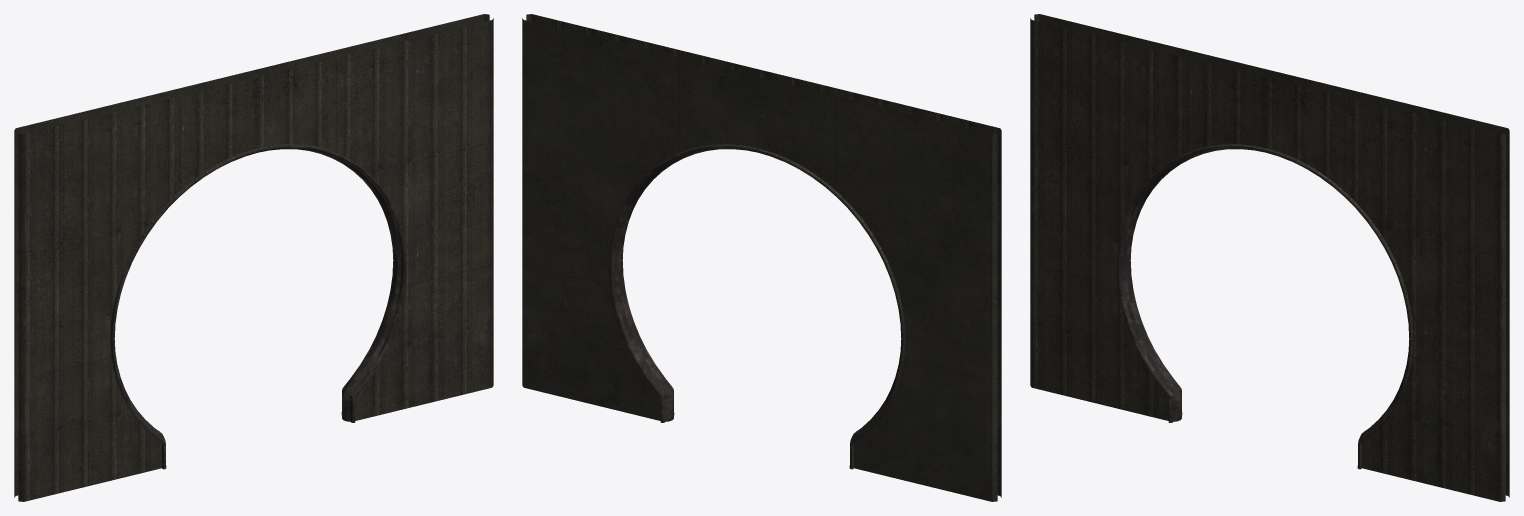
The model's file is wall_1_tunnel_hole.obj.
The picture shows the model from 3 angles, left to right: view 1: azimuth 30°, elevation 25°; view 2: azimuth 150°, elevation 25°; view 3: azimuth 330°, elevation 25°; orthographic projection.
Visible parts, largest first — view 1: wall_1_tunnel_hole; view 2: wall_1_tunnel_hole; view 3: wall_1_tunnel_hole.
Part boxes in pixels (x1,y1,x2,y2): wall_1_tunnel_hole: (14, 14, 493, 501); wall_1_tunnel_hole: (522, 14, 1001, 501); wall_1_tunnel_hole: (1030, 14, 1509, 501).
Bounding box in the file's own units: 4.06 × 3 × 0.1728.
